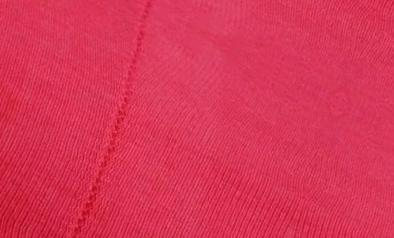slub: (71, 1, 155, 238)
